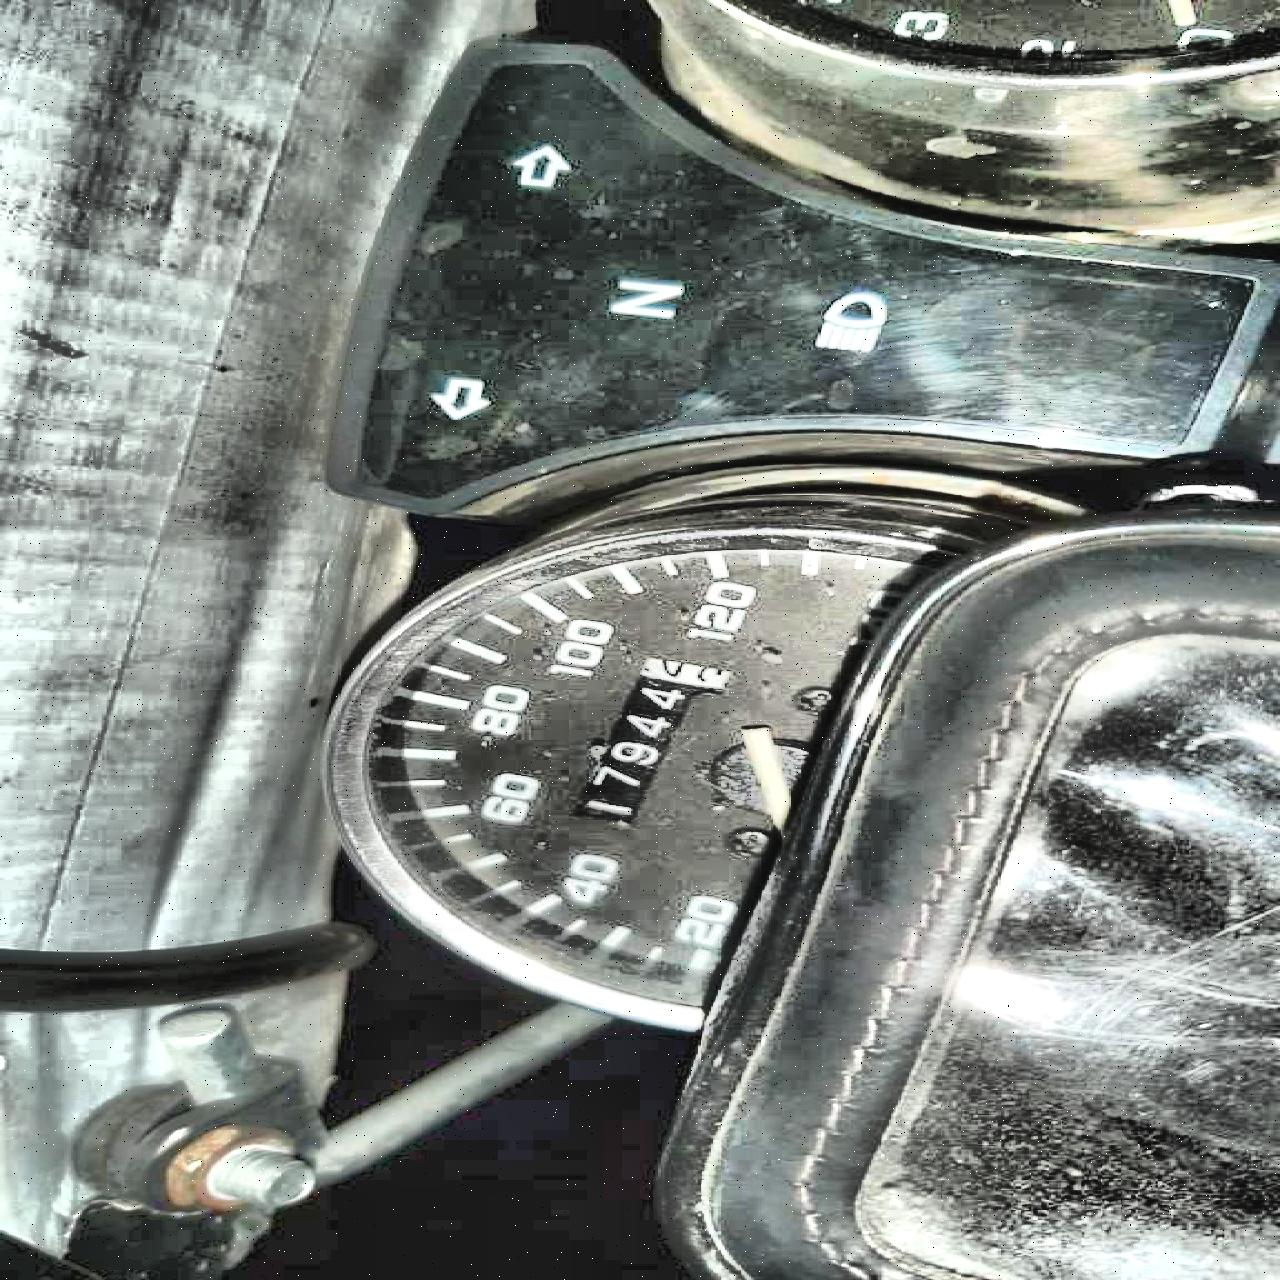1: (580, 795, 640, 816), (546, 663, 591, 676)
2: (635, 655, 682, 676)
3: (693, 661, 731, 685)
4: (626, 683, 687, 708), (615, 713, 672, 736)
7: (585, 763, 642, 788)
9: (605, 738, 662, 763)
odometer: (565, 654, 735, 826)
